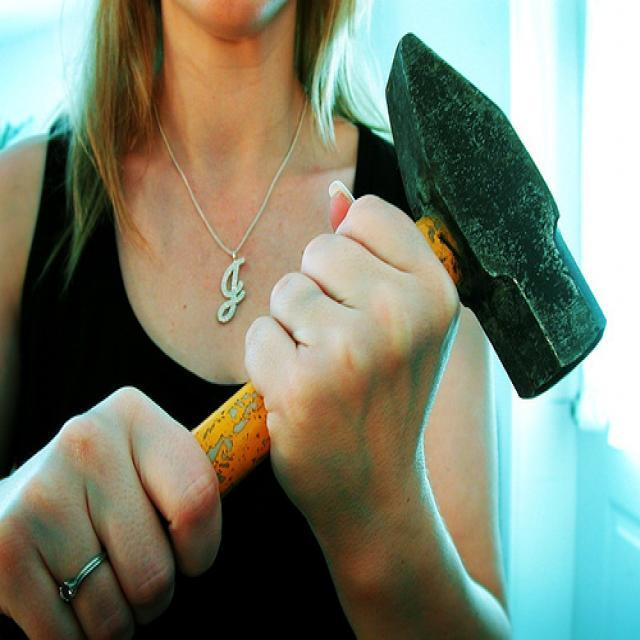hammer: (32, 19, 616, 586)
